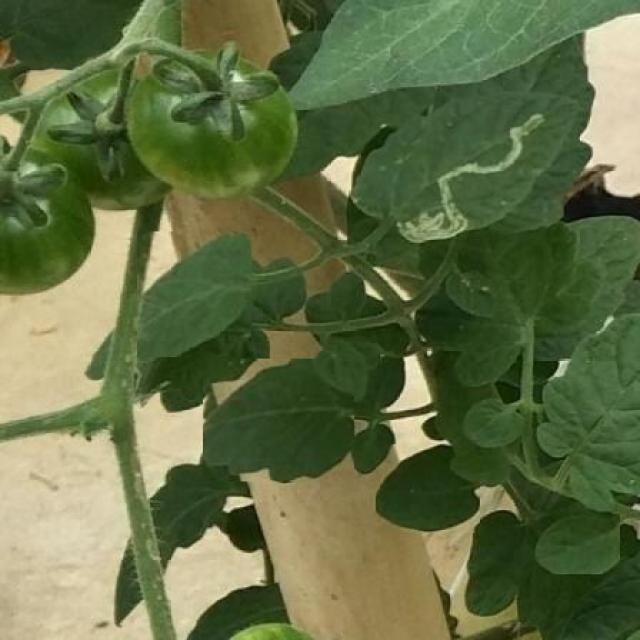Healthy: (204, 359, 355, 482), (138, 232, 251, 357), (376, 444, 480, 533), (535, 514, 621, 574)
Leaf Miner: (347, 88, 580, 245)
